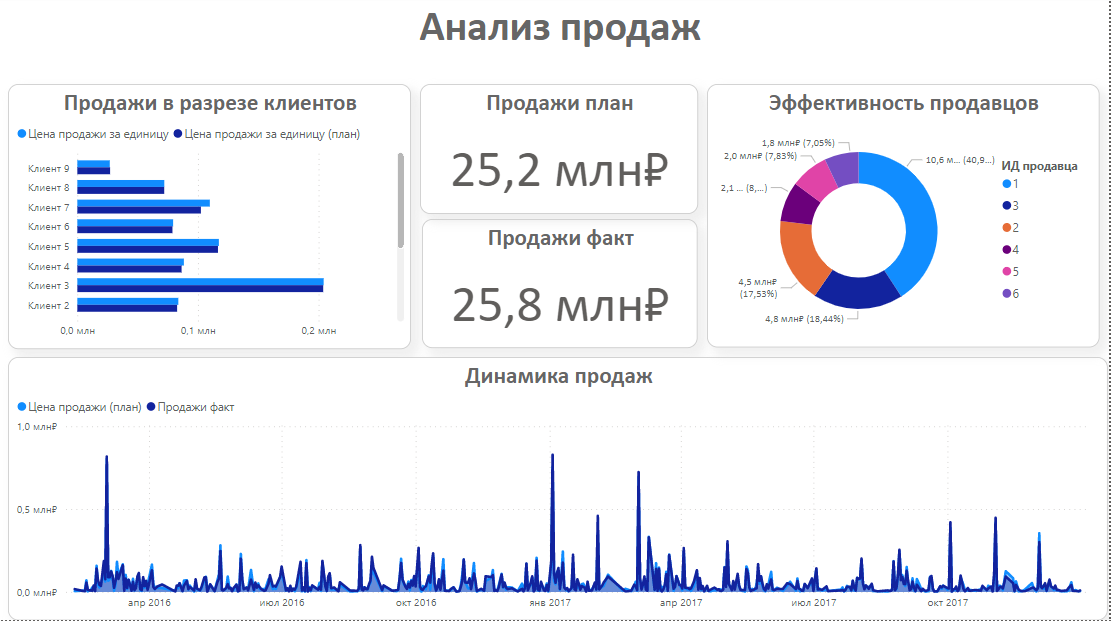

The dashboard page shown, as its layout file describes it:
{"tool":"powerbi","page":{"name":"Страница 1","canvas":[1280,720],"ordinal":0},"visuals":[{"type":"clusteredBarChart","title":"Продажи в разрезе клиентов","fields":{"Category":["Клиенты.Название клиента"],"Y":["Sum(Продажи.Цена продажи за единицу)","Sum(Продажи.Цена продажи за единицу (план))"]},"box":[10.4,101.5,465,305.8],"z":0},{"type":"card","title":"Продажи факт","fields":{"Values":["Sum(Продажи.Цена продажи)"]},"box":[488.3,257,318.2,149.3],"z":1000},{"type":"card","title":"Продажи план","fields":{"Values":["Sum(Продажи.Цена продажи (план))"]},"box":[485.4,101.1,320.9,150.4],"z":2000},{"type":"areaChart","title":"Динамика продаж","fields":{"Category":["Продажи.Дата доставки.Изменение.Иерархия дат.Год"],"Y":["Sum(Продажи.Цена продажи (план))","Продажи.Продажи факт"]},"box":[10.6,416.1,1269.4,304.4],"z":3000},{"type":"donutChart","title":"Эффективность продавцов","fields":{"Y":["Sum(Продажи.Цена продажи)"],"Category":["Продавцы.ИД продавца"]},"box":[816.9,101.1,452.5,304.4],"z":4000},{"type":"textbox","box":[214.3,0,865.6,91.7],"z":5000}]}

Visuals, with their boxes in screenshot pixels (x1, y1, x2, y2), scaled from the page's 1280x720 canvas onto the 1113x621 screenshot:
"Продажи в разрезе клиентов" clusteredBarChart: {"left": 9, "top": 88, "right": 413, "bottom": 351}
"Продажи факт" card: {"left": 425, "top": 222, "right": 701, "bottom": 350}
"Продажи план" card: {"left": 422, "top": 87, "right": 701, "bottom": 217}
"Динамика продаж" areaChart: {"left": 9, "top": 359, "right": 1112, "bottom": 620}
"Эффективность продавцов" donutChart: {"left": 710, "top": 87, "right": 1104, "bottom": 350}
textbox: {"left": 186, "top": 0, "right": 939, "bottom": 79}
